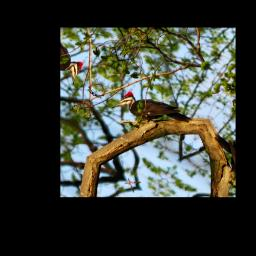Woodpecker: (109, 78, 196, 148)
